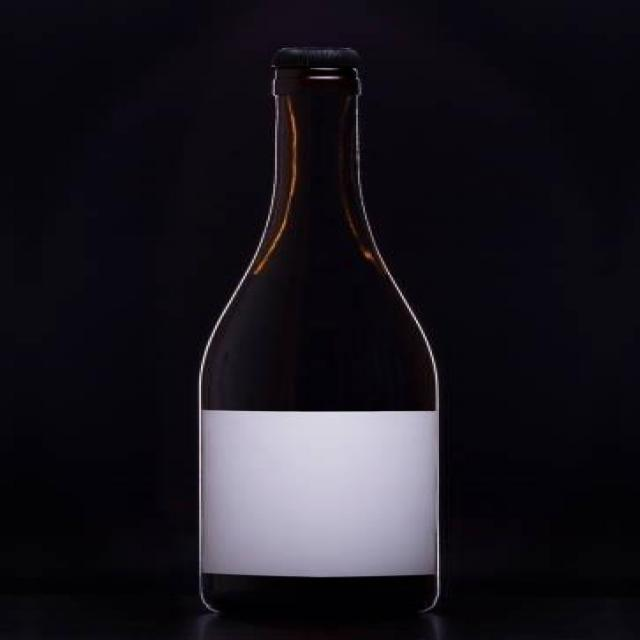bottle-glass: (185, 42, 451, 621)
